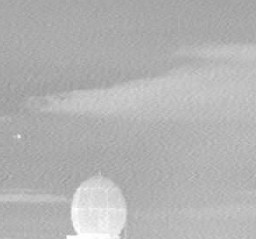Target: (19, 135, 21, 137)
